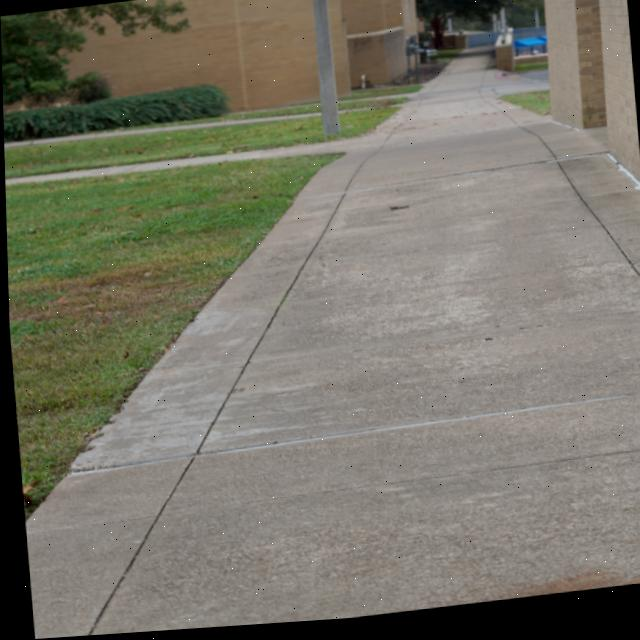Sidewalk: (4, 61, 640, 639), (3, 118, 319, 148)
